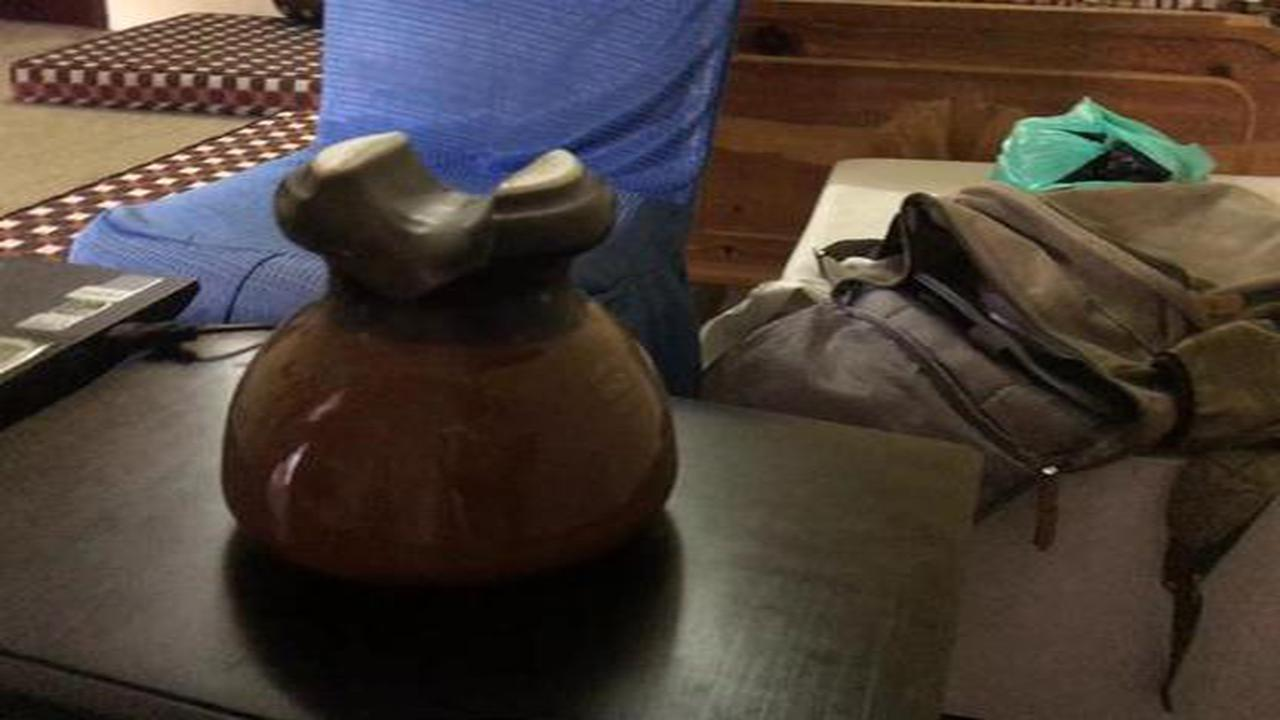insulator_pin: (205, 116, 705, 603)
